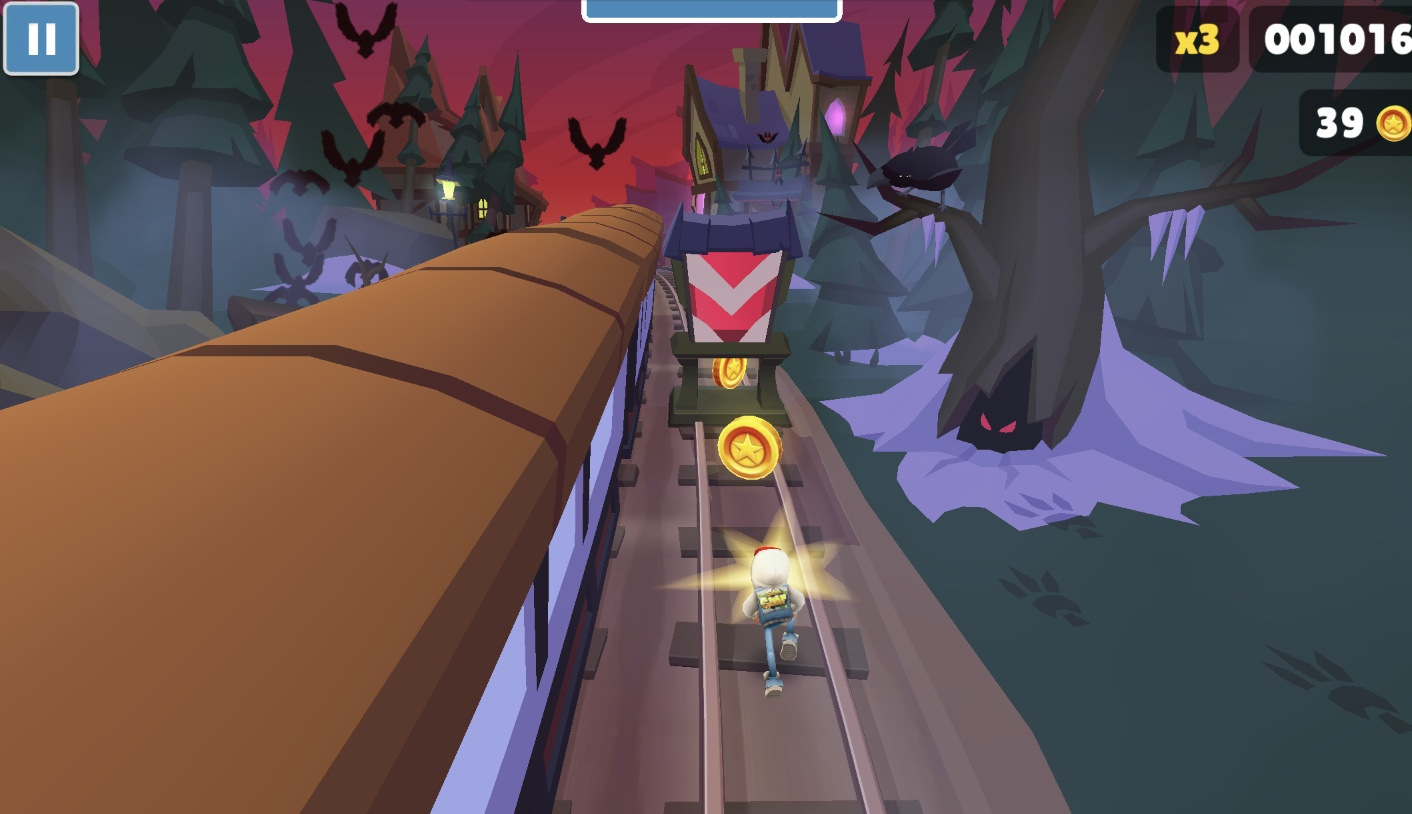overhead_barrier: (659, 206, 810, 442)
train: (0, 204, 664, 814)
